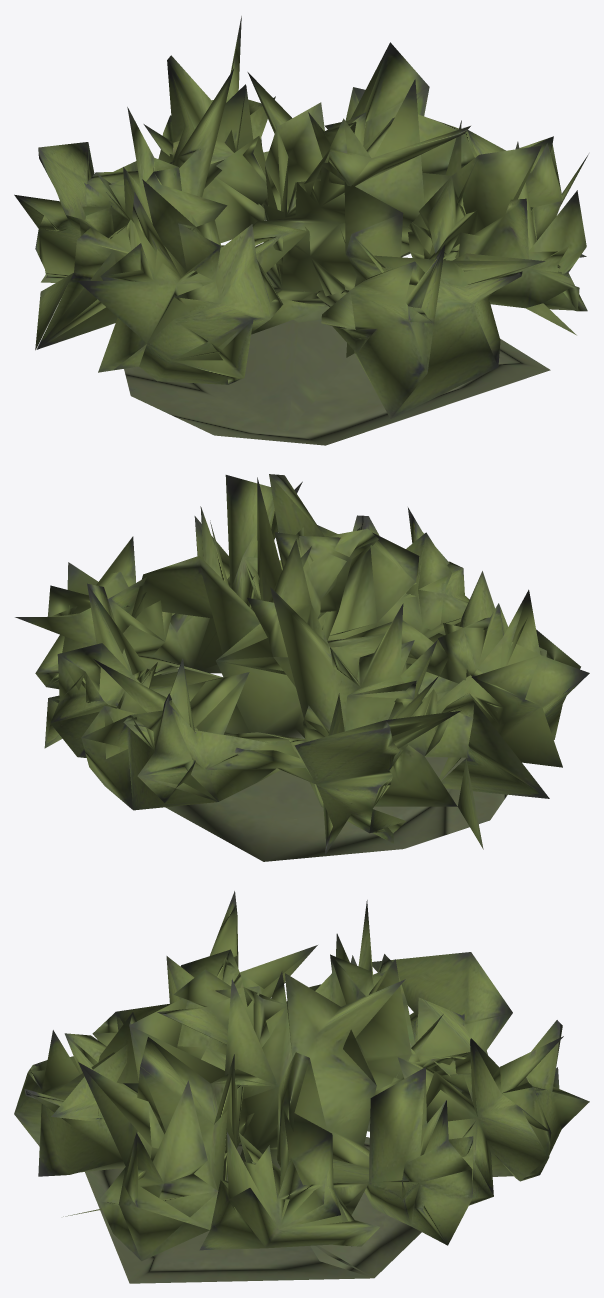
3 views of the same model, one above another, from view 1: azimuth 30°, elevation 25°; view 2: azimuth 150°, elevation 25°; view 3: azimuth 270°, elevation 25° (orthographic). The views are drawn at different scales.
Parts seen in each view (by area): view 1: tripo_node_2a52fca5-2497-4918-a261-4b53ce26169d; view 2: tripo_node_2a52fca5-2497-4918-a261-4b53ce26169d; view 3: tripo_node_2a52fca5-2497-4918-a261-4b53ce26169d.
Boxes of the visible parts, <box> form: tripo_node_2a52fca5-2497-4918-a261-4b53ce26169d: <box>14,16,588,445</box>; tripo_node_2a52fca5-2497-4918-a261-4b53ce26169d: <box>15,474,589,861</box>; tripo_node_2a52fca5-2497-4918-a261-4b53ce26169d: <box>14,891,589,1283</box>.
Bounding box in the file's own units: 1 × 0.4944 × 0.9637.
1 material, 1 textured.
